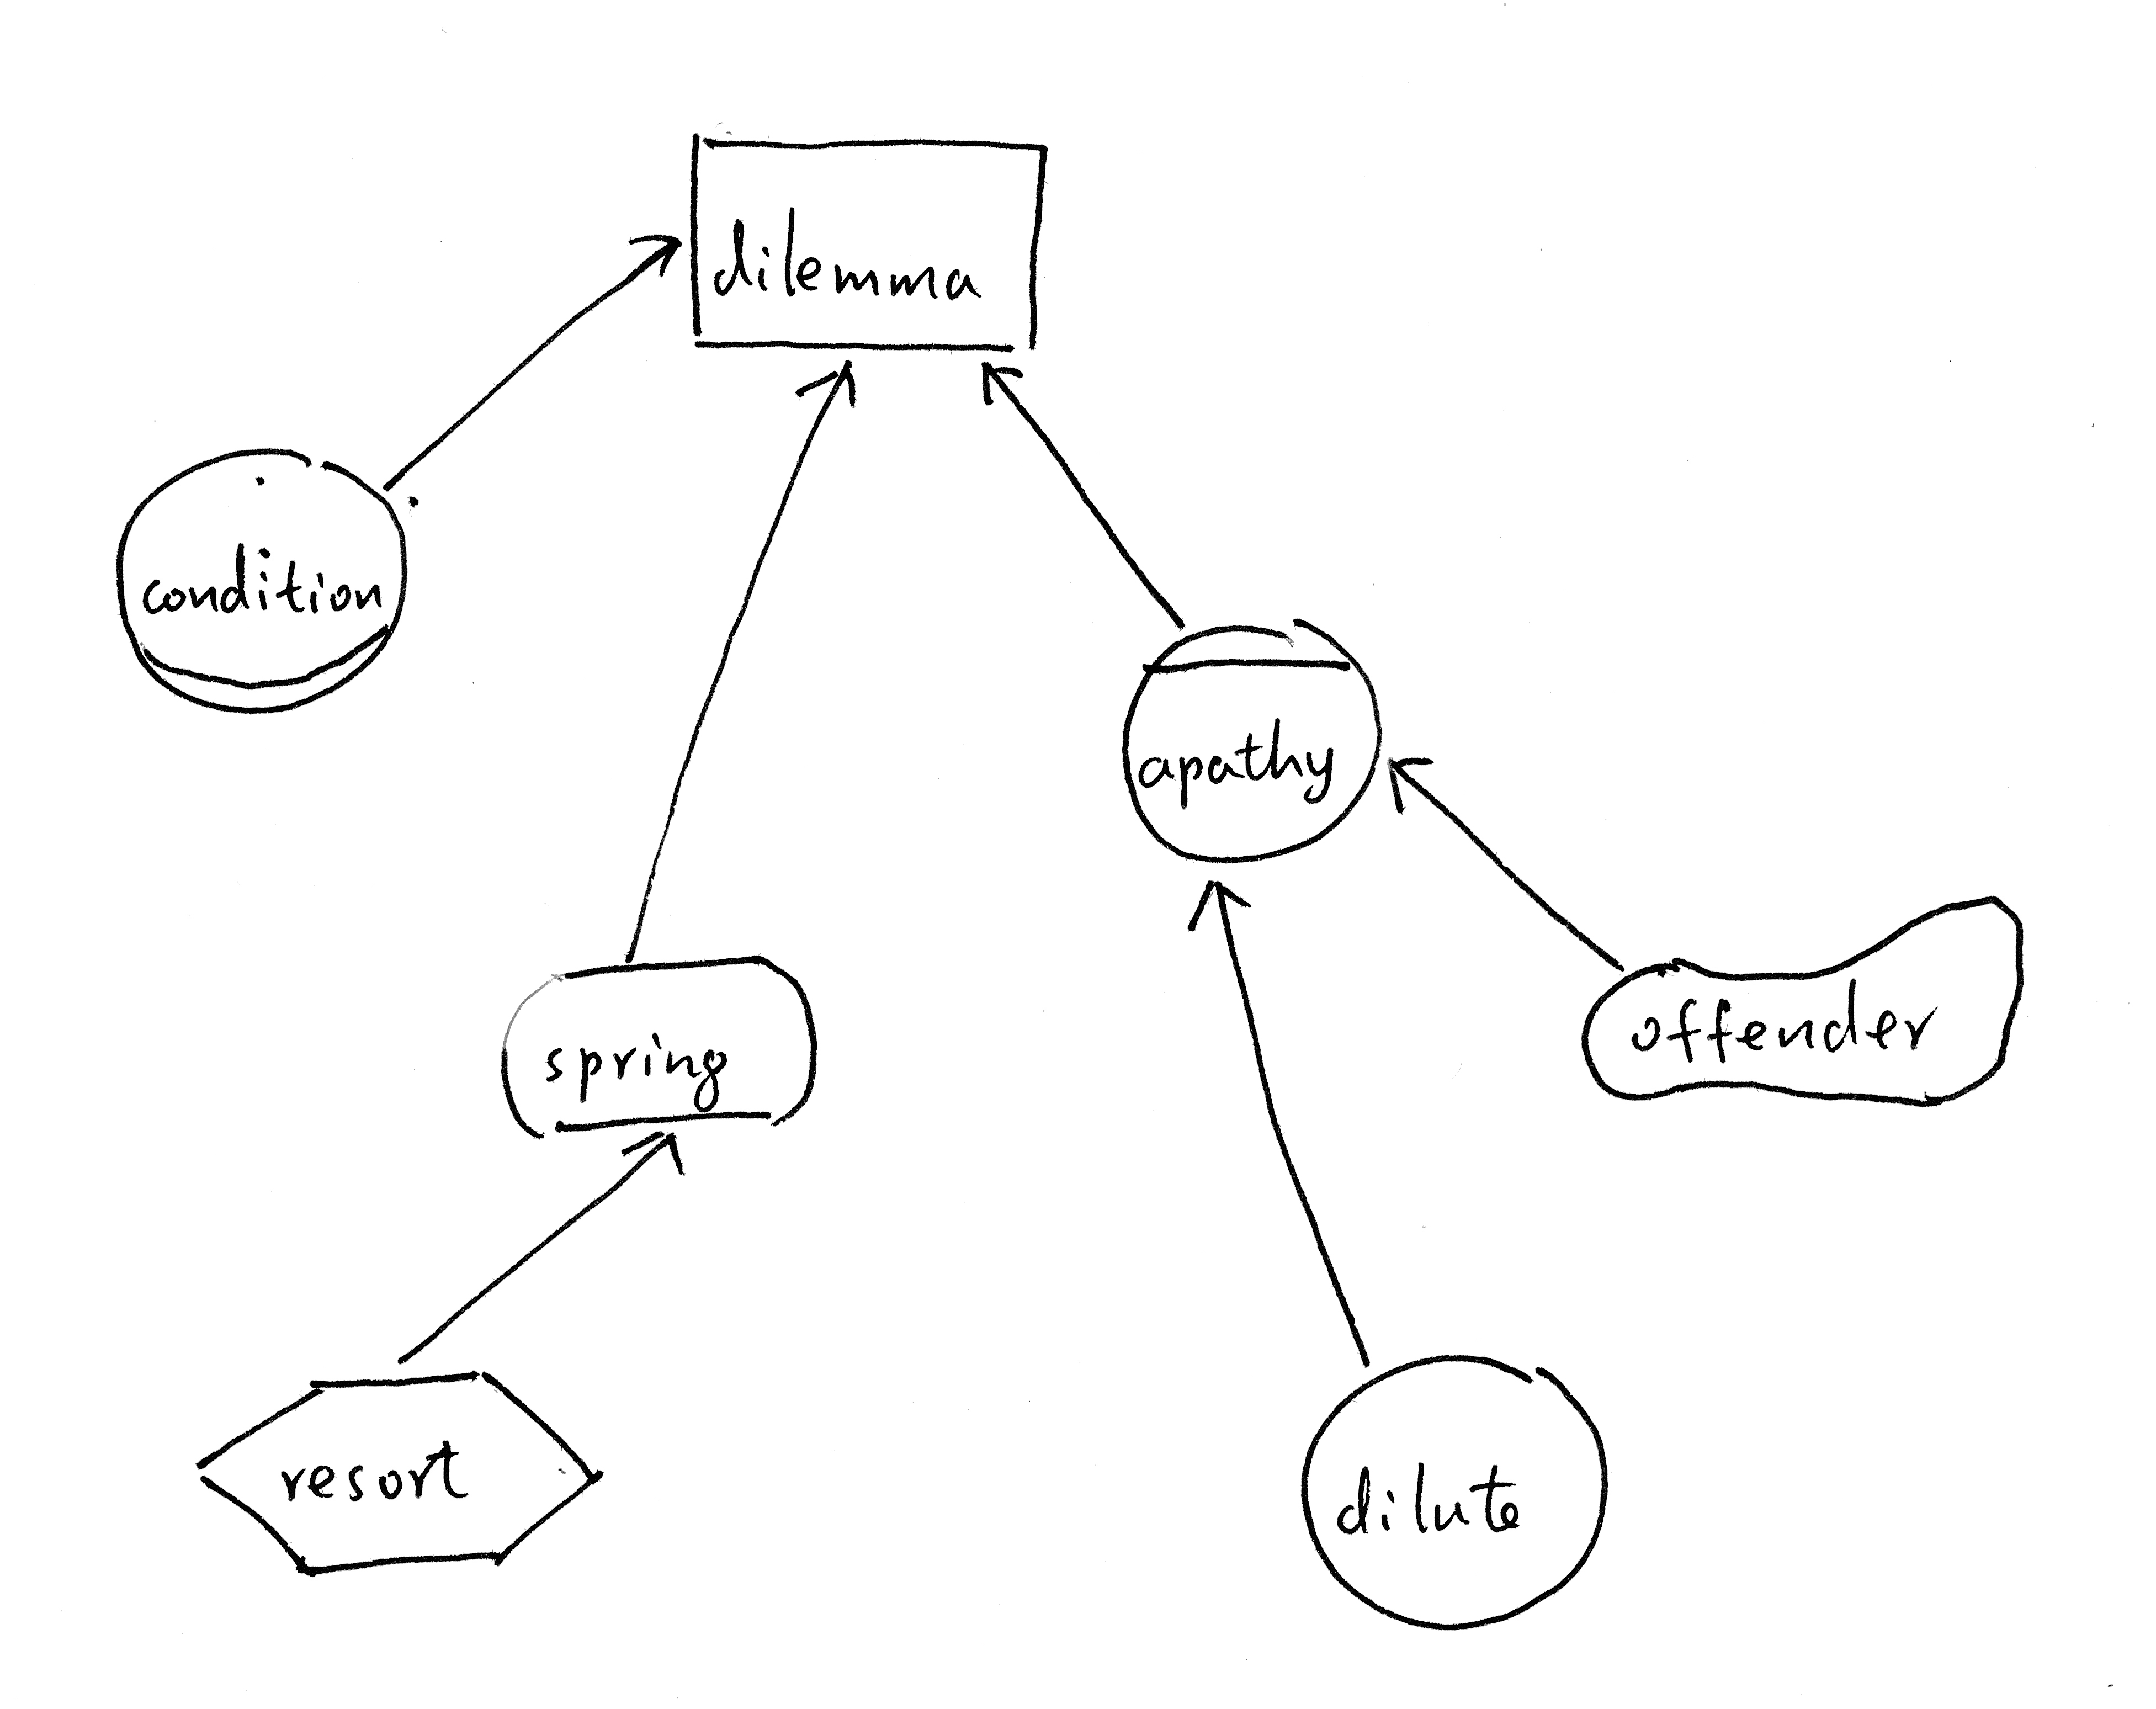actor: (1277, 1333, 1629, 1643)
agent: (1104, 598, 1403, 883)
arrow: (602, 1113, 705, 1191), (777, 345, 875, 418), (1174, 868, 1258, 952), (1370, 733, 1442, 827), (614, 206, 691, 283), (957, 346, 1034, 415)
goal: (485, 938, 821, 1149)
quality: (1563, 883, 2042, 1123)
resource: (661, 108, 1069, 369)
role: (94, 425, 429, 729)
task: (173, 1357, 611, 1594)
